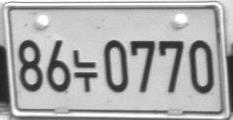0: (188, 39, 215, 94), (103, 39, 129, 93)
6: (46, 39, 71, 92)
7: (129, 39, 156, 93), (158, 40, 185, 94)
8: (17, 38, 44, 92)
누: (72, 50, 98, 92)
